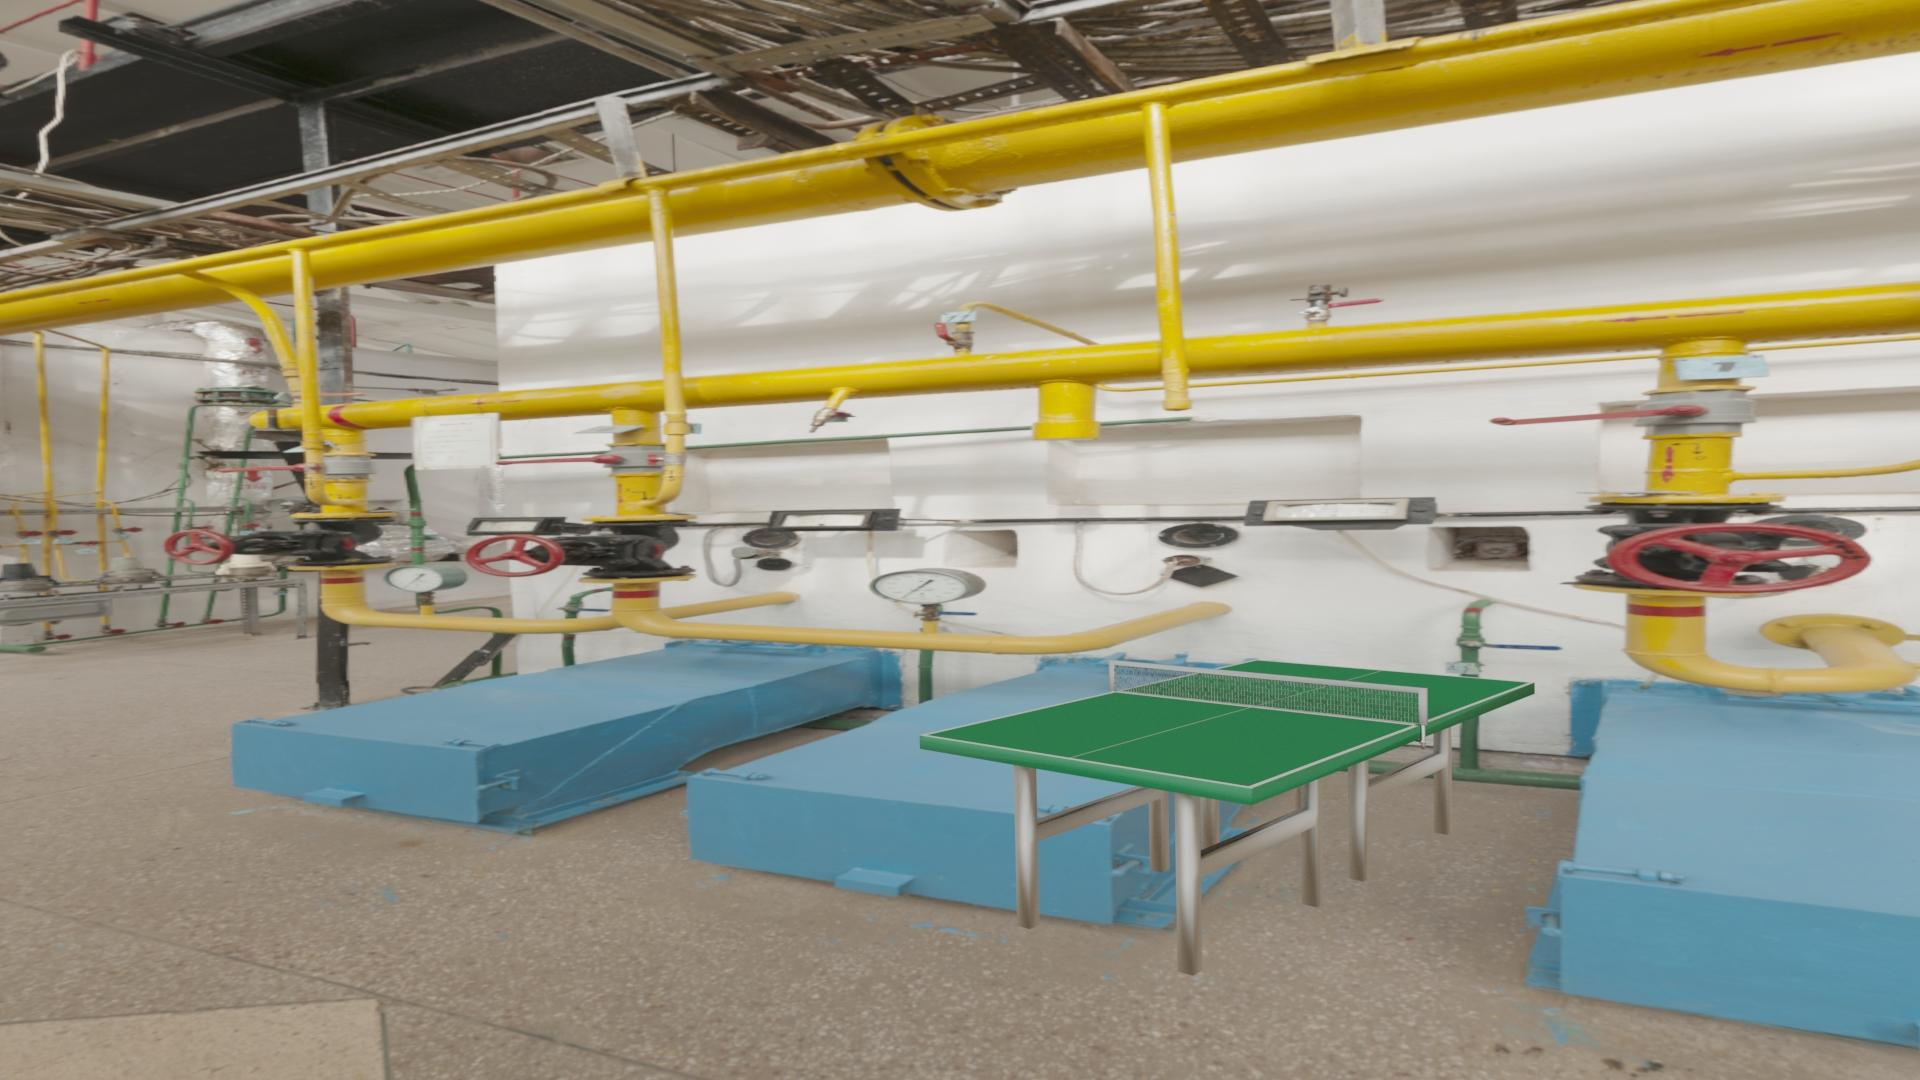table: (927, 661, 1530, 786)
